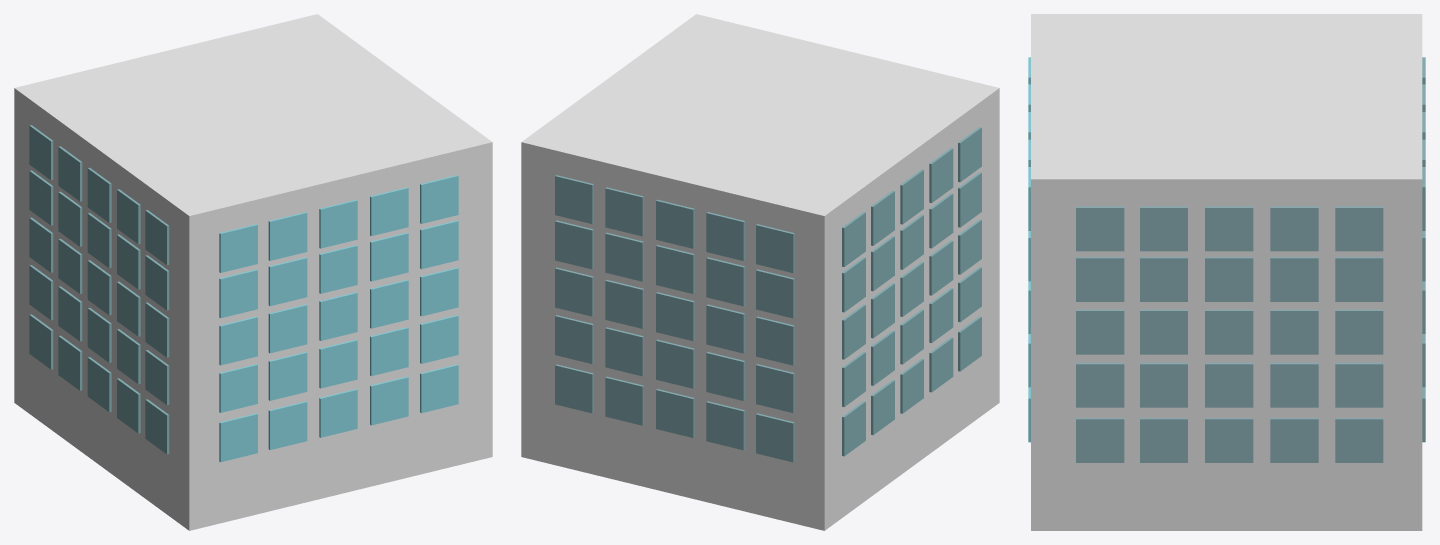
Rendered from block.fbx.
The picture shows the model from 3 angles, left to right: view 1: azimuth 30°, elevation 25°; view 2: azimuth 150°, elevation 25°; view 3: azimuth 270°, elevation 25°; orthographic projection. The views are drawn at different scales.
Visible parts, largest first — view 1: Cube.023; view 2: Cube.023; view 3: Cube.023.
Part boxes in pixels (x1,y1,x2,y2): Cube.023: [14, 14, 492, 530]; Cube.023: [521, 14, 999, 530]; Cube.023: [1028, 14, 1425, 530].
Size of the model in its own units: 428 by 418 by 428.
